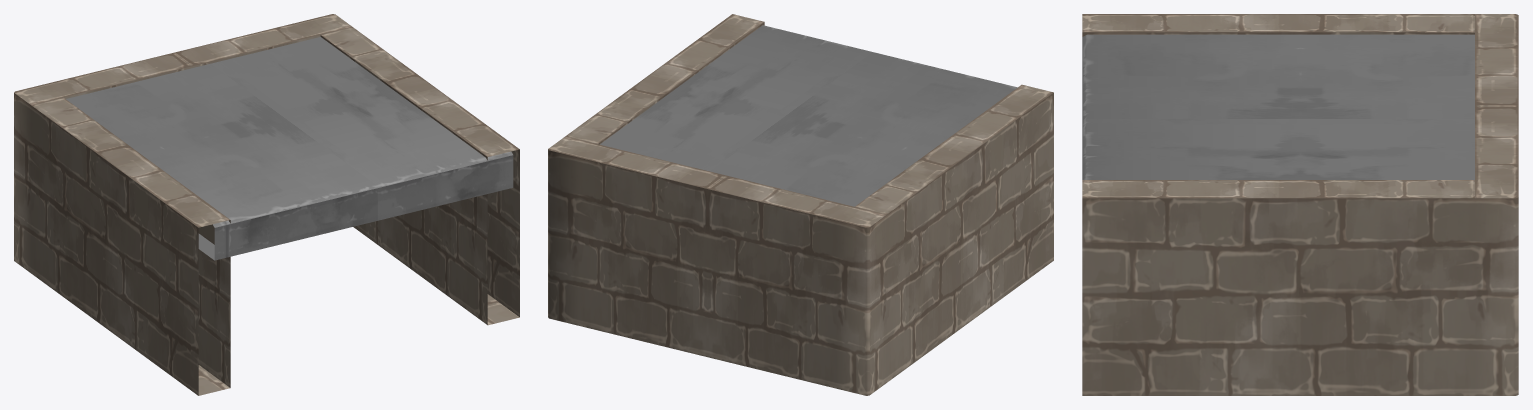
File: Stairs_Exterior_PlatformU.gltf
The picture shows the model from 3 angles, left to right: view 1: azimuth 30°, elevation 25°; view 2: azimuth 150°, elevation 25°; view 3: azimuth 270°, elevation 25°; orthographic projection. The views are drawn at different scales.
Visible parts, largest first — view 1: Stairs_Exterior_PlatformU; view 2: Stairs_Exterior_PlatformU; view 3: Stairs_Exterior_PlatformU.
Part boxes in pixels (left/top/right/bottom): Stairs_Exterior_PlatformU: left=14, top=14, right=519, bottom=395; Stairs_Exterior_PlatformU: left=548, top=14, right=1053, bottom=395; Stairs_Exterior_PlatformU: left=1082, top=14, right=1518, bottom=395.
Size of the model in its own units: 2 by 0.9999 by 2.
2 materials, 2 textured.
